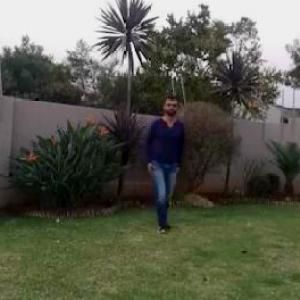follow: (147, 95, 183, 223)
